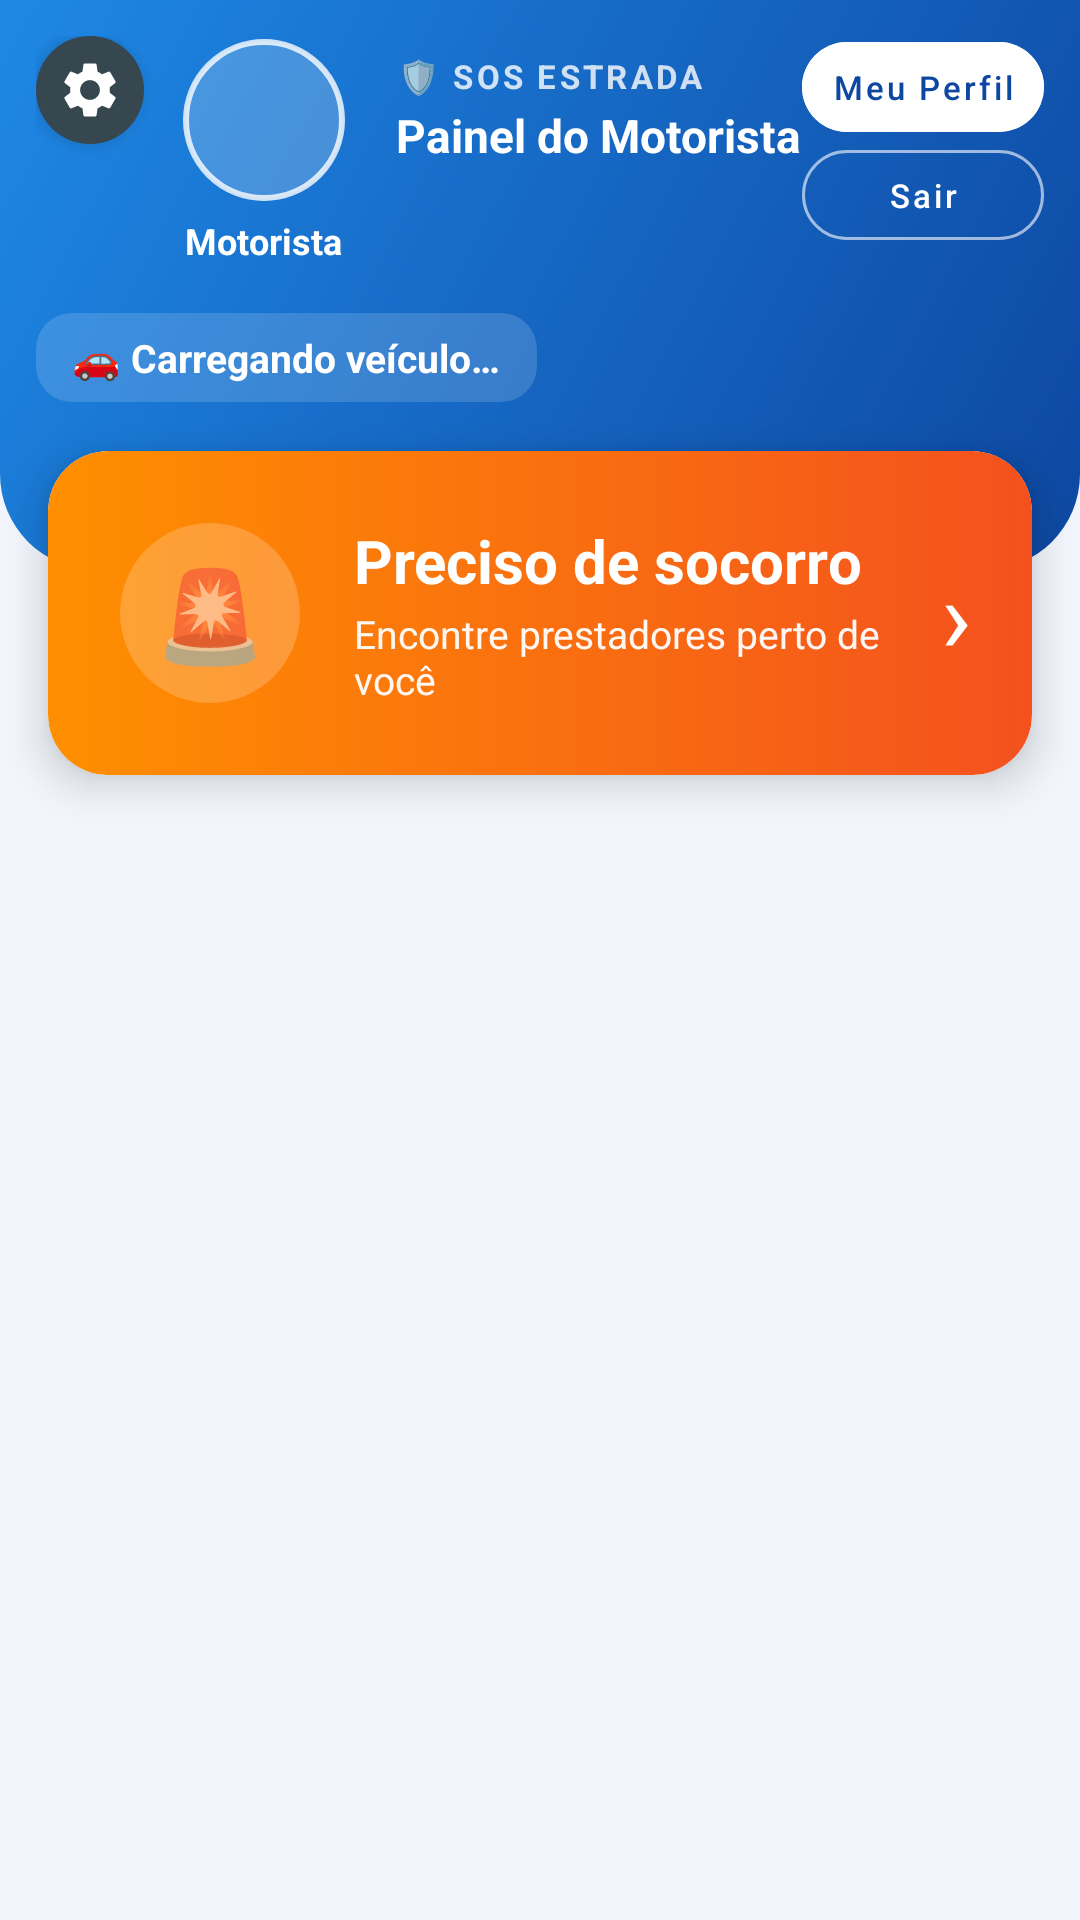

Icons on this 1080px×1920px Android screen, each with its box as [x1=x1, y1=y1, x2=x2, y2=y2]:
Configurações: [x1=36, y1=36, x2=144, y2=144]
